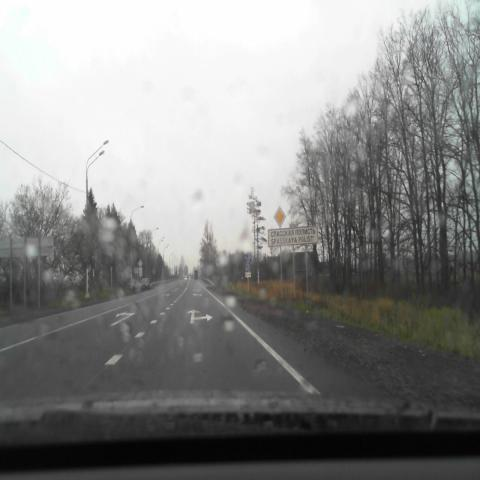2_1: (274, 205, 286, 228)
